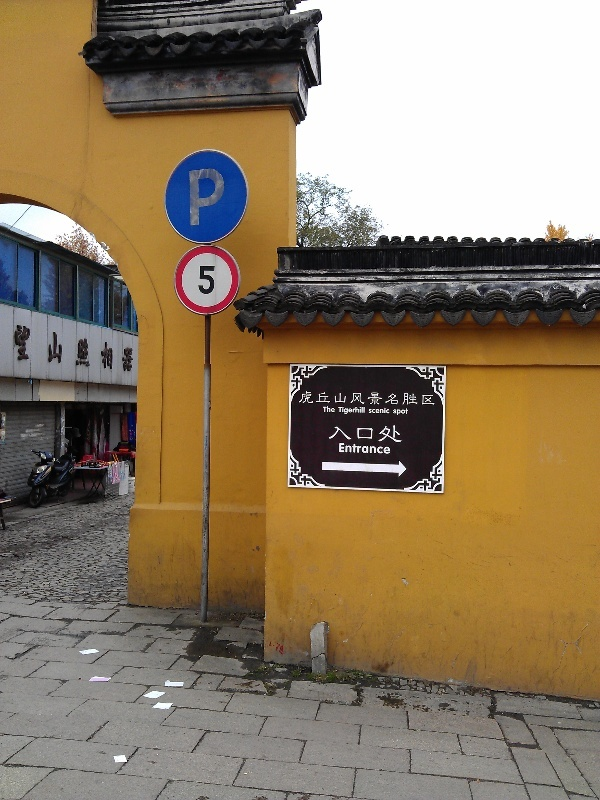text: (193, 166, 208, 227), (209, 166, 224, 227), (17, 323, 32, 373), (33, 323, 48, 373), (49, 323, 64, 373), (65, 323, 80, 373), (81, 323, 96, 373), (97, 323, 112, 373), (113, 323, 128, 373), (198, 265, 208, 296), (129, 323, 135, 373), (337, 424, 352, 443), (353, 424, 368, 443), (369, 424, 384, 443), (385, 424, 400, 443), (305, 391, 320, 406), (321, 391, 336, 406), (337, 391, 352, 406), (353, 391, 368, 406), (369, 391, 384, 406), (385, 391, 400, 406), (401, 391, 416, 406), (417, 391, 432, 406), (209, 265, 216, 296), (189, 166, 192, 227), (353, 443, 368, 455), (369, 443, 384, 455), (339, 443, 352, 455), (328, 424, 336, 443), (369, 407, 384, 415), (338, 407, 352, 415), (353, 407, 366, 415), (14, 323, 16, 373), (323, 406, 336, 413), (299, 391, 304, 406), (385, 443, 391, 455), (401, 408, 409, 416), (225, 166, 226, 227), (393, 408, 400, 416), (433, 391, 436, 406), (385, 407, 390, 415), (401, 424, 403, 443)
